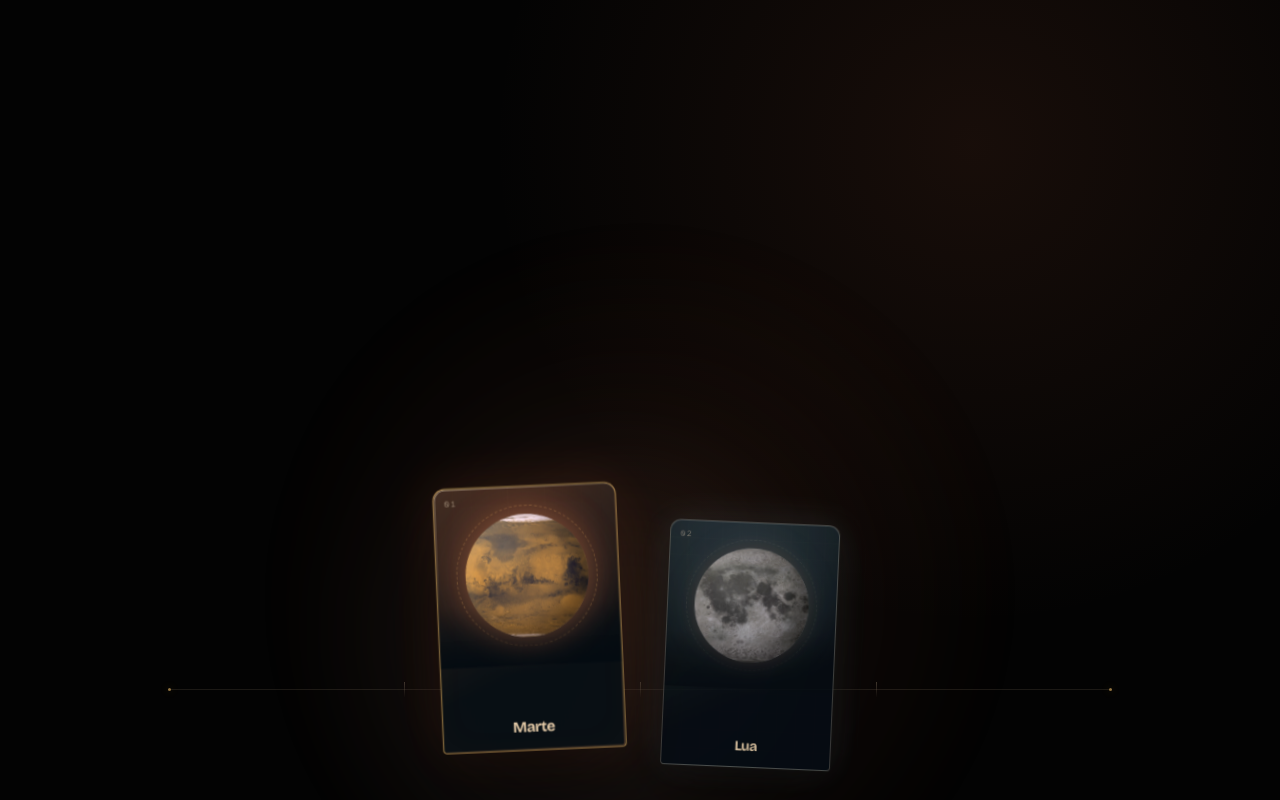
Test: OrbitSelector › changes the active card on hover without selecting a world
Step 1. Hover over the button named "Explorar 02 Lua" → (750, 645), box left=660, top=518, right=840, bottom=771
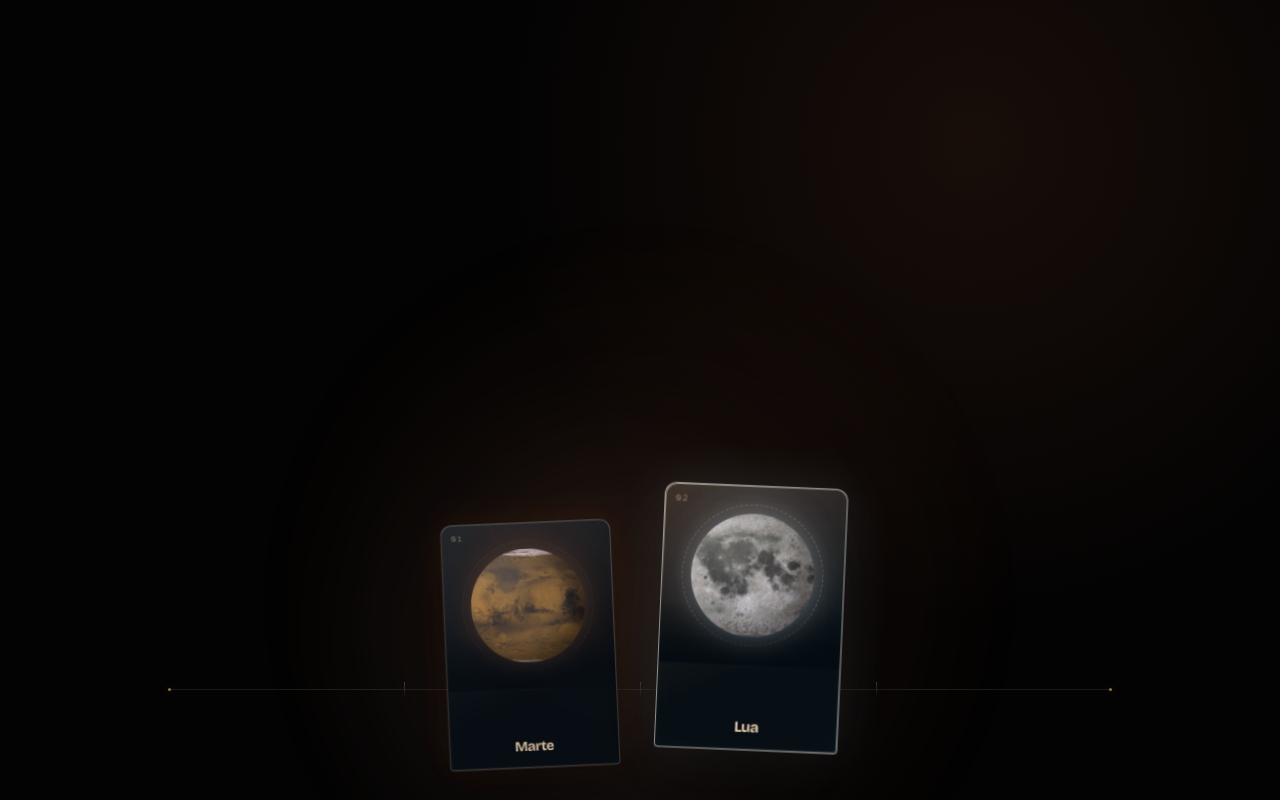
Check: the button "Explorar 02 Lua" has class "is-active", box left=654, top=485, right=848, bottom=758
Check: the button named "Explorar 01 Marte" does not have class "is-active", box left=440, top=518, right=620, bottom=771
